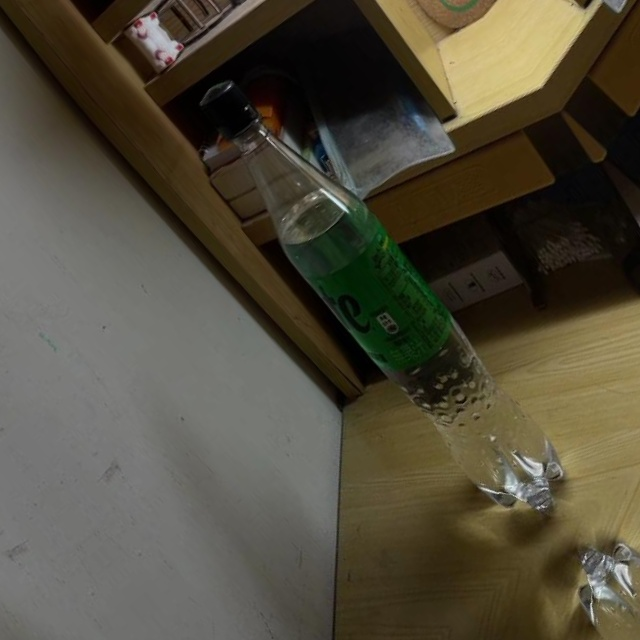Sprite: (168, 58, 592, 535)
